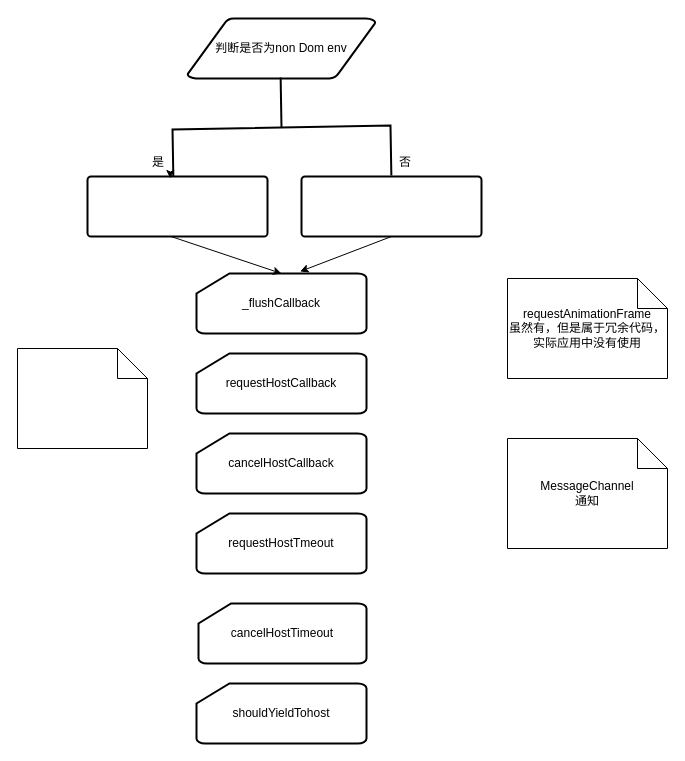
Image size: 685x761. Some labels were removed from this diagram. Each missing label, with the centre of its shape:
"dom imp" goes at pixel 391 206.
"native imp" goes at pixel 177 206.
"setTimeout 实现" goes at pixel 82 398.
